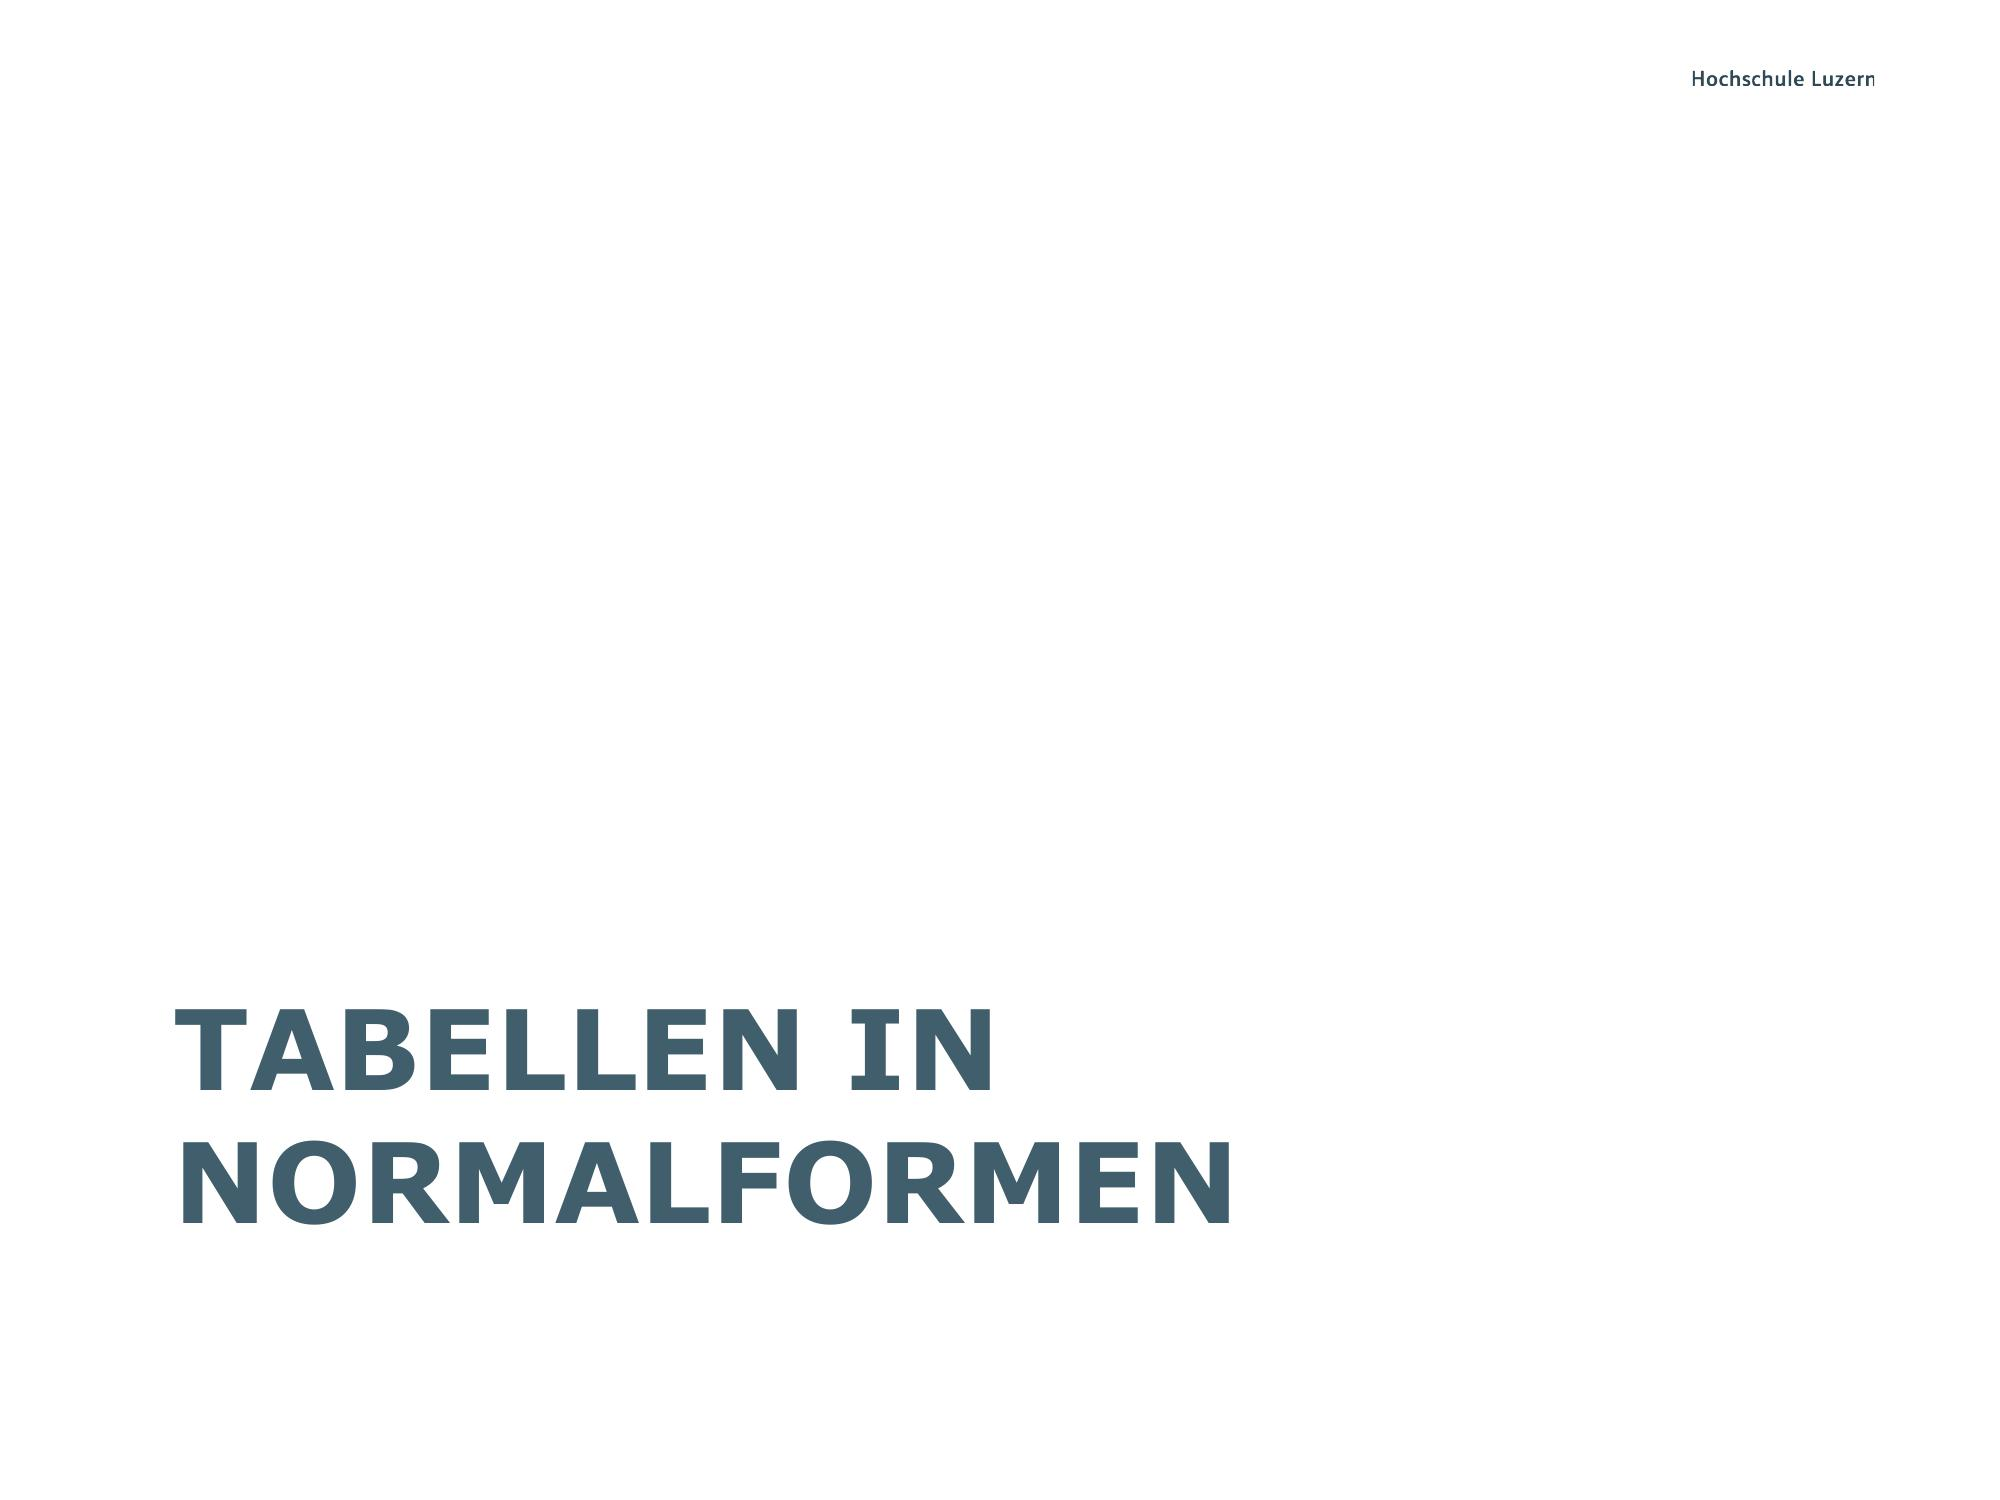Title: (154, 983, 1246, 1267)
